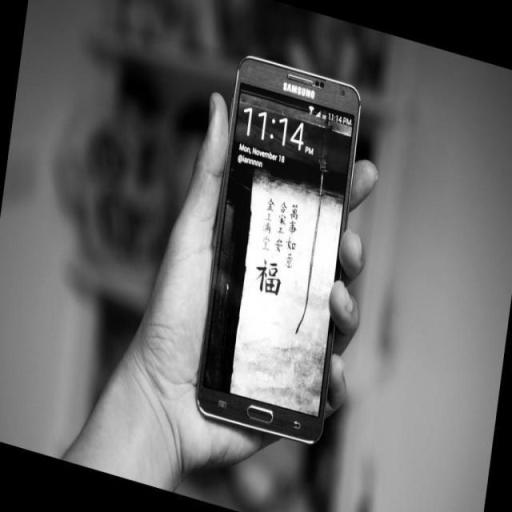phone: (197, 56, 360, 442)
